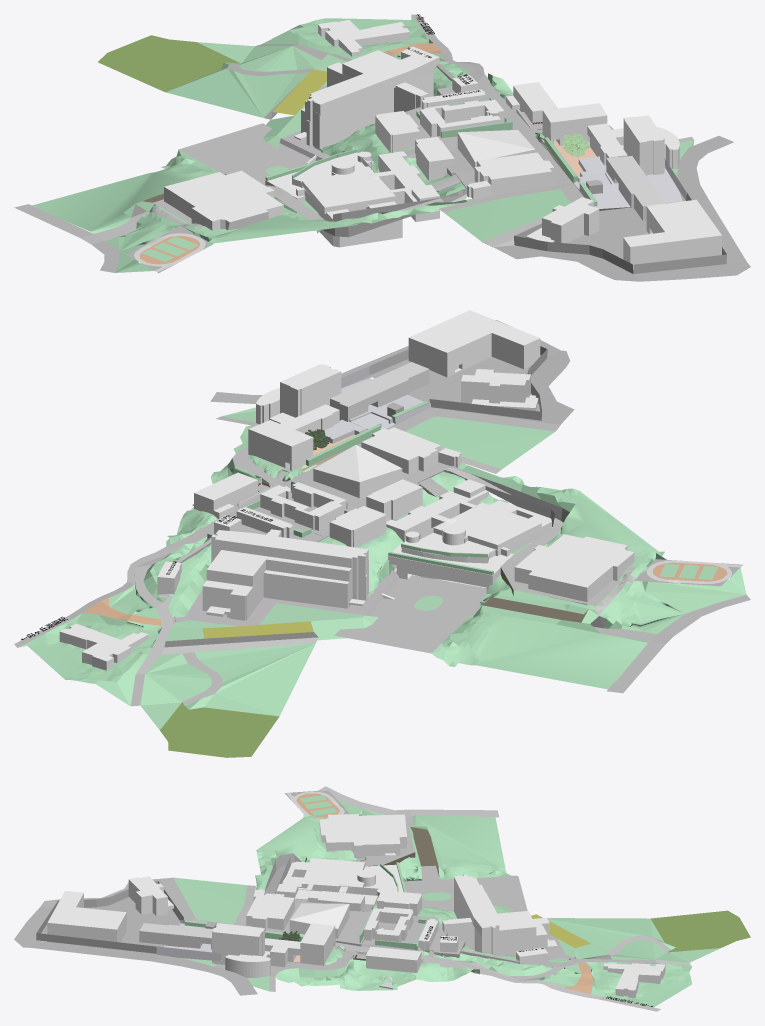
File: wholeMap.glb
3 views of the same model, one above another, from view 1: azimuth 30°, elevation 25°; view 2: azimuth 150°, elevation 25°; view 3: azimuth 270°, elevation 25° (orthographic). The views are drawn at different scales.
Visible parts, largest first — view 1: object, 10号館, 9号館, 総合体育館, 1号館, 北グラウンド, 駐車場_road_1, 4号館, 5号館, 図書館別館, 6号館, 西グラウンド (+11 smaller); view 2: object, 10号館, 9号館, 駐車場_road_1, 1号館, 総合体育館, 北グラウンド, 4号館, 第1体育館, 2号館, 6号館, 図書館別館 (+9 smaller); view 3: object, 10号館, 総合体育館, 9号館, 北グラウンド, 1号館, 駐車場_road_1, 4号館, 3号館, 2号館, 第1体育館, 5号館 (+11 smaller).
Boxes of the visible parts, box(x1,y1,x2,y2) form: object: box(14, 14, 750, 281); 10号館: box(294, 50, 433, 163); 9号館: box(265, 151, 402, 247); 総合体育館: box(164, 170, 283, 230); 1号館: box(623, 199, 721, 269); 北グラウンド: box(98, 35, 239, 92); 駐車場_road_1: box(179, 123, 316, 184); 4号館: box(542, 103, 627, 165); 5号館: box(474, 152, 554, 193); 図書館別館: box(526, 197, 599, 243); 6号館: box(420, 99, 504, 136); 西グラウンド: box(126, 225, 208, 273); object: box(14, 320, 750, 729); 10号館: box(202, 529, 394, 620); 9号館: box(388, 500, 551, 592); 駐車場_road_1: box(334, 575, 486, 653); 1号館: box(408, 310, 540, 377); 総合体育館: box(514, 534, 634, 604); 北グラウンド: box(160, 703, 279, 757); 4号館: box(248, 404, 339, 470); 第1体育館: box(313, 445, 402, 498); 2号館: box(330, 362, 429, 421); 6号館: box(260, 482, 346, 530); 図書館別館: box(461, 369, 538, 410); object: box(14, 786, 720, 1011); 10号館: box(442, 874, 557, 955); 総合体育館: box(319, 814, 406, 859); 9号館: box(283, 858, 403, 897); 北グラウンド: box(650, 910, 750, 952); 1号館: box(47, 891, 126, 943); 駐車場_road_1: box(404, 876, 527, 911); 4号館: box(263, 923, 335, 967); 3号館: box(212, 923, 264, 964); 2号館: box(139, 923, 213, 949); 第1体育館: box(289, 903, 349, 938); 5号館: box(246, 893, 294, 930).
Bounding box in the file's own units: 215 × 33.87 × 291.
